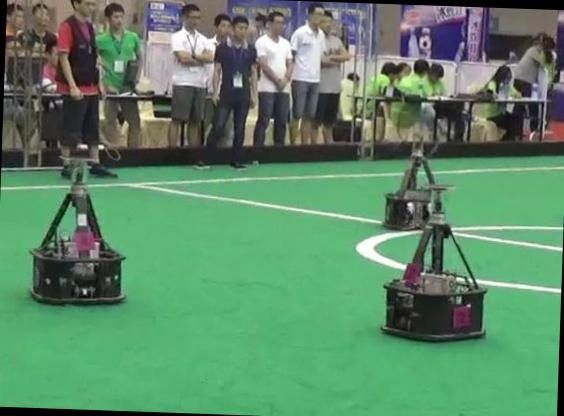person: (57, 0, 114, 176), (207, 16, 257, 167)
robot: (381, 183, 486, 340), (30, 158, 125, 303), (384, 135, 435, 229)
